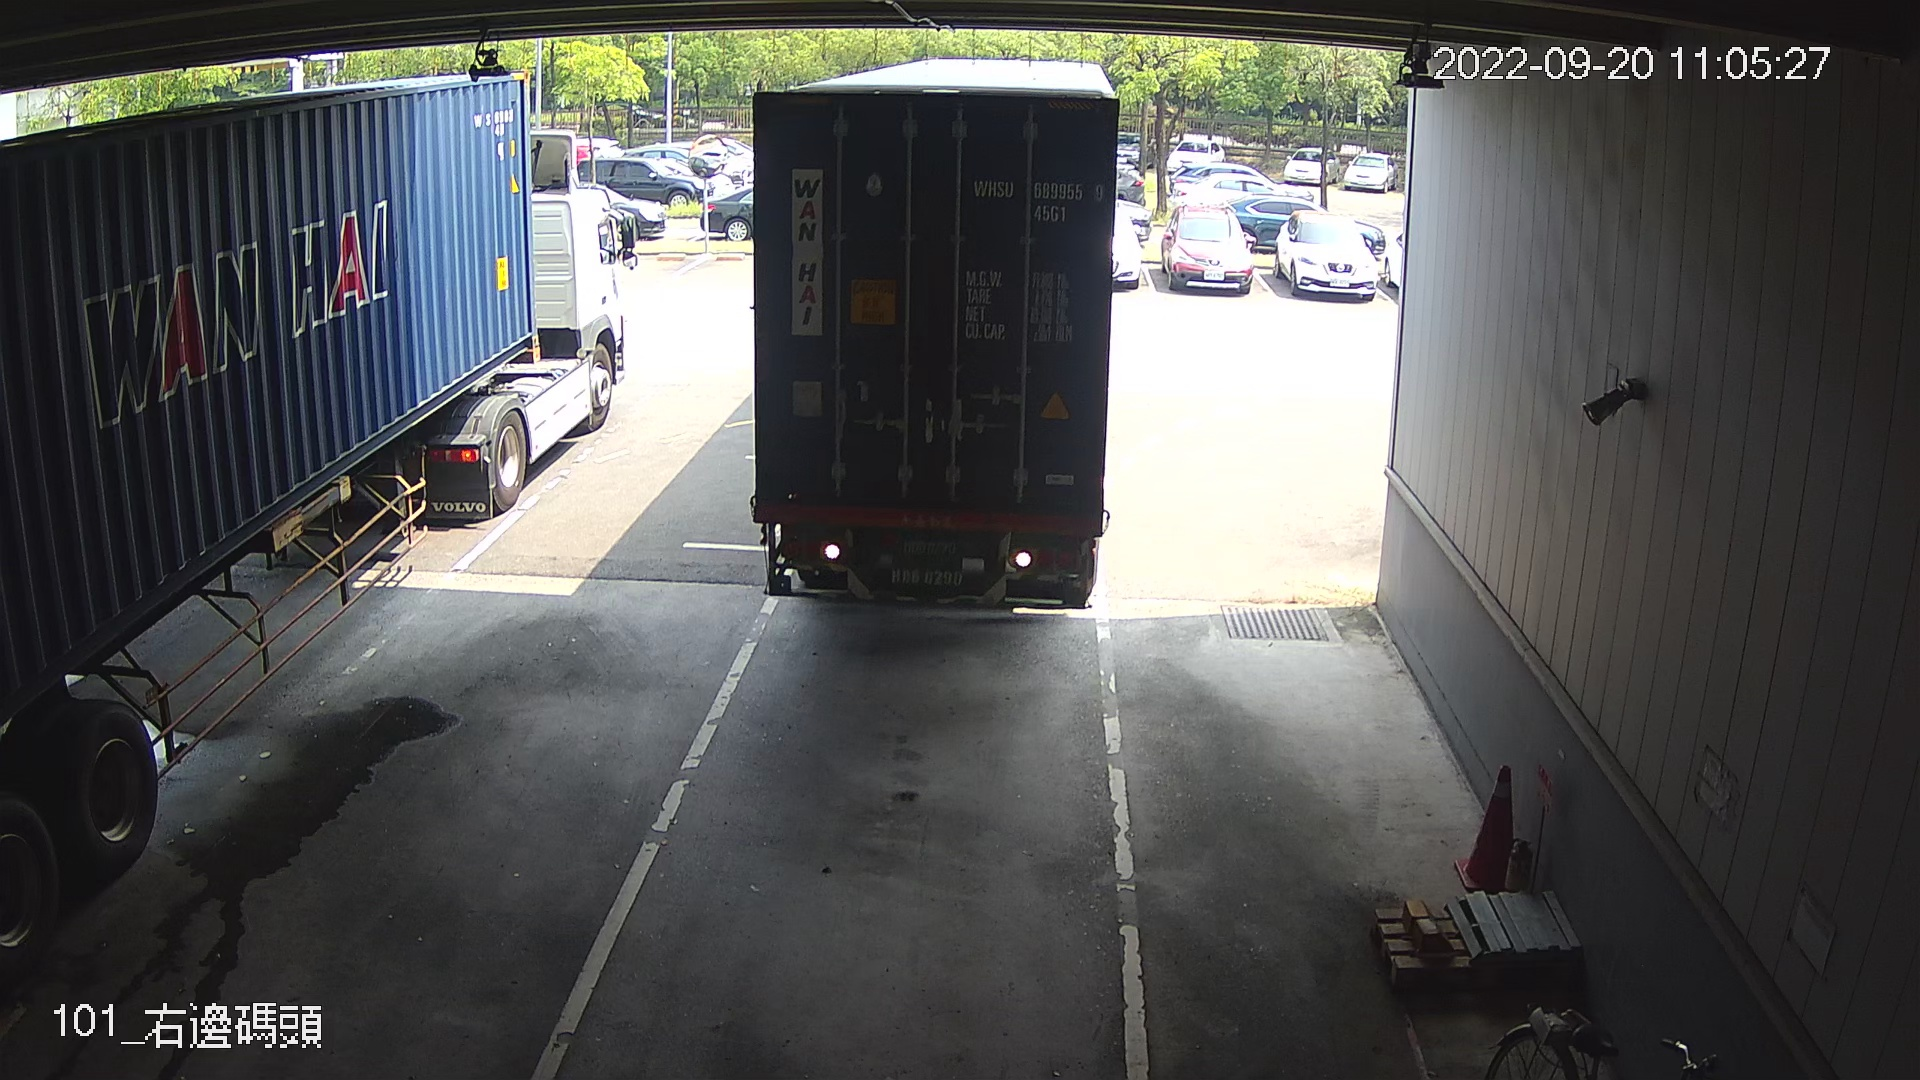container: (963, 167, 1109, 229)
